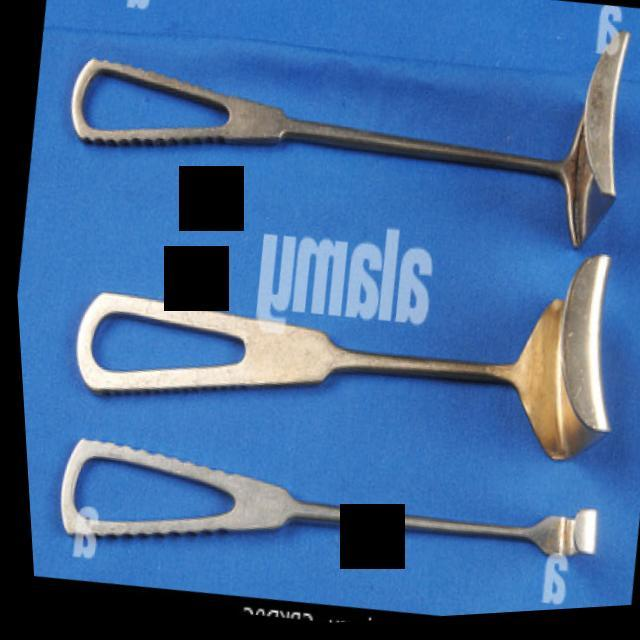Morris Retractor: (54, 178, 634, 492), (47, 0, 640, 280)
